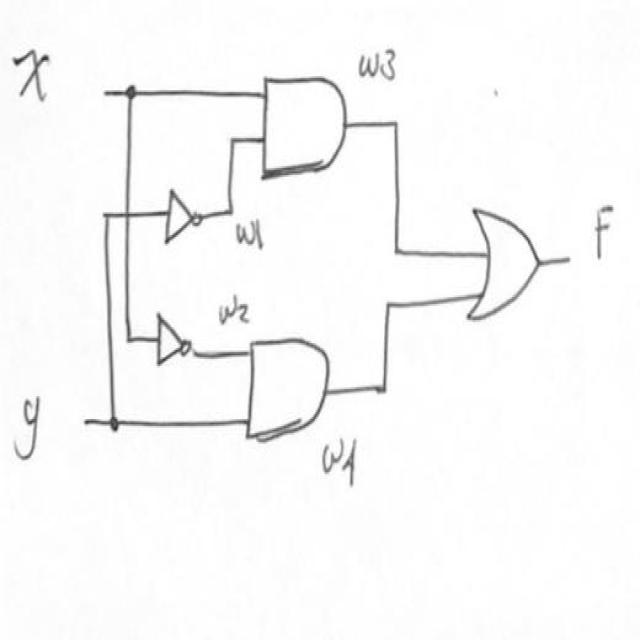AND: (252, 67, 359, 189), (242, 330, 334, 444)
NOT: (148, 303, 203, 384), (159, 180, 214, 254)
OR: (459, 187, 549, 336)
